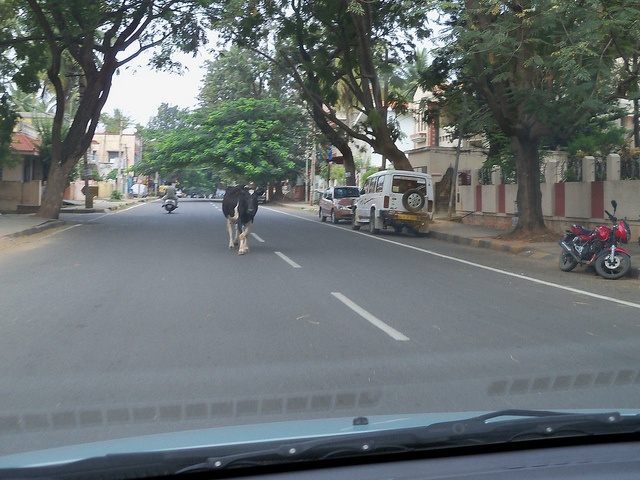non-vehicle: (558, 199, 632, 278), (162, 188, 178, 213)
